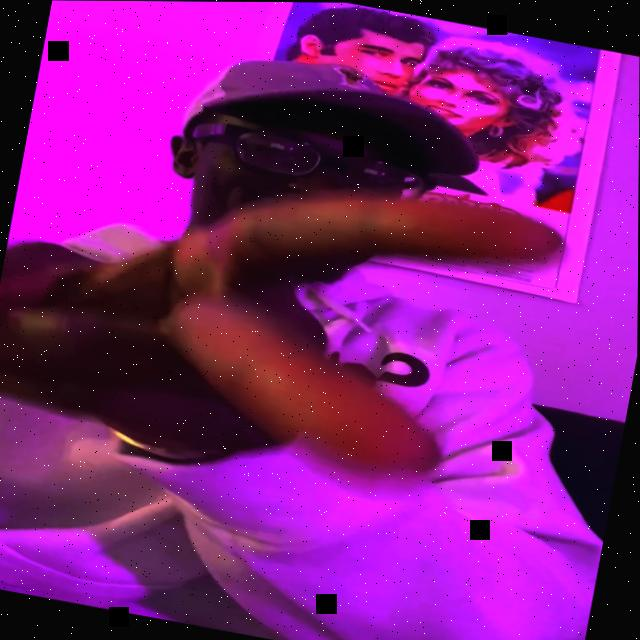Scissors: (0, 117, 576, 510)
